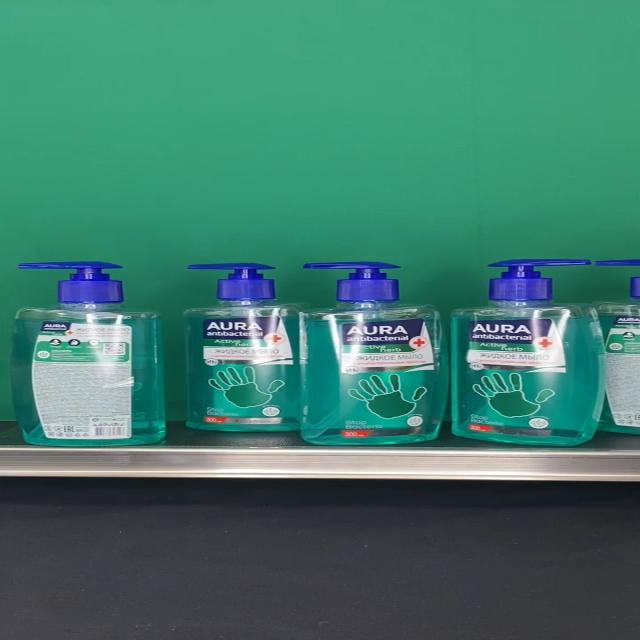Bottle: (450, 259, 607, 445), (9, 262, 165, 446), (299, 262, 447, 445), (182, 263, 311, 431)
Cap: (487, 259, 590, 302), (19, 262, 126, 302), (302, 262, 404, 300), (187, 263, 277, 299)
